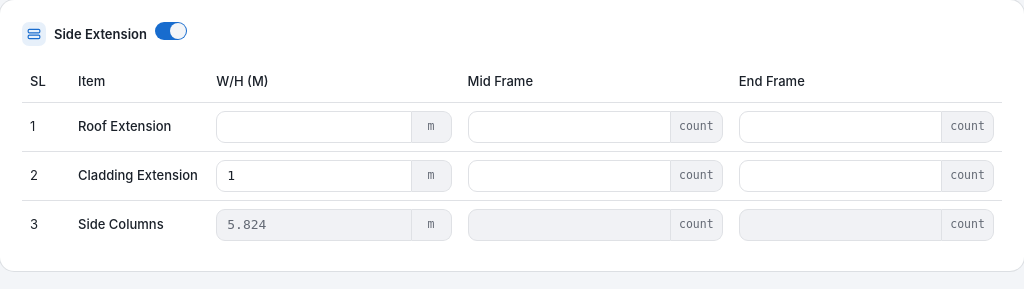
Test: SideExtension section › updates the derived Side Columns Width / Height live when cladding extension changes
The width and height of the screenshot is (1024, 289).
Step 1. Replace the text in the 4th number field with "0" → (314, 176), box top-left (216, 160), bottom-right (412, 192)
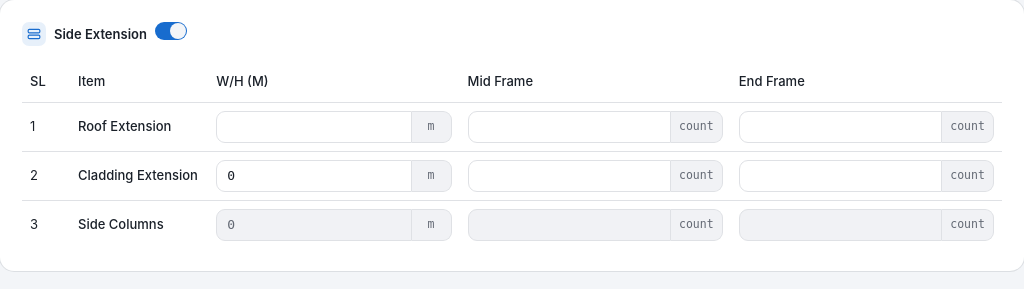
Result: the 7th number field holds "0" at top-left (216, 208), bottom-right (412, 240)
